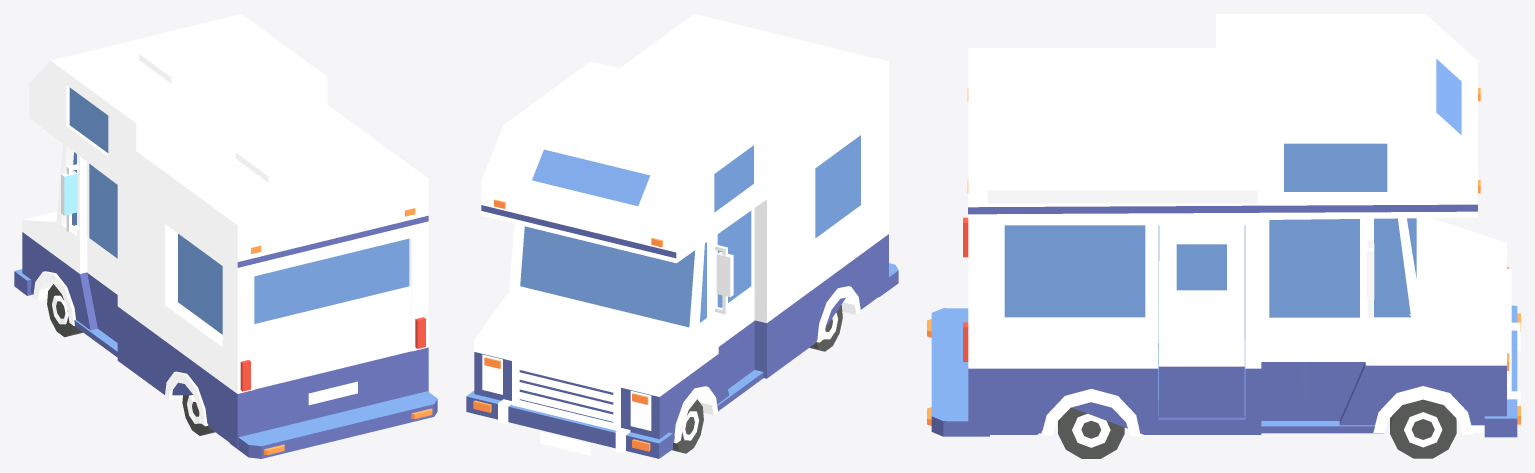
Rendered from transport_bus.007.glb.
3 renders of one model, left to right at view 1: azimuth 30°, elevation 25°; view 2: azimuth 150°, elevation 25°; view 3: azimuth 270°, elevation 25°, orthographic. The views are drawn at different scales.
Parts seen in each view (by area): view 1: transport_bus.007(Clone); view 2: transport_bus.007(Clone); view 3: transport_bus.007(Clone).
Part boxes in pixels (bbox=[...]): transport_bus.007(Clone): bbox=[14, 14, 437, 458]; transport_bus.007(Clone): bbox=[466, 14, 898, 458]; transport_bus.007(Clone): bbox=[927, 14, 1520, 458].
Bounding box in the file's own units: 2.02 × 2.57 × 4.
Materials: 1 (1 with a texture image).
